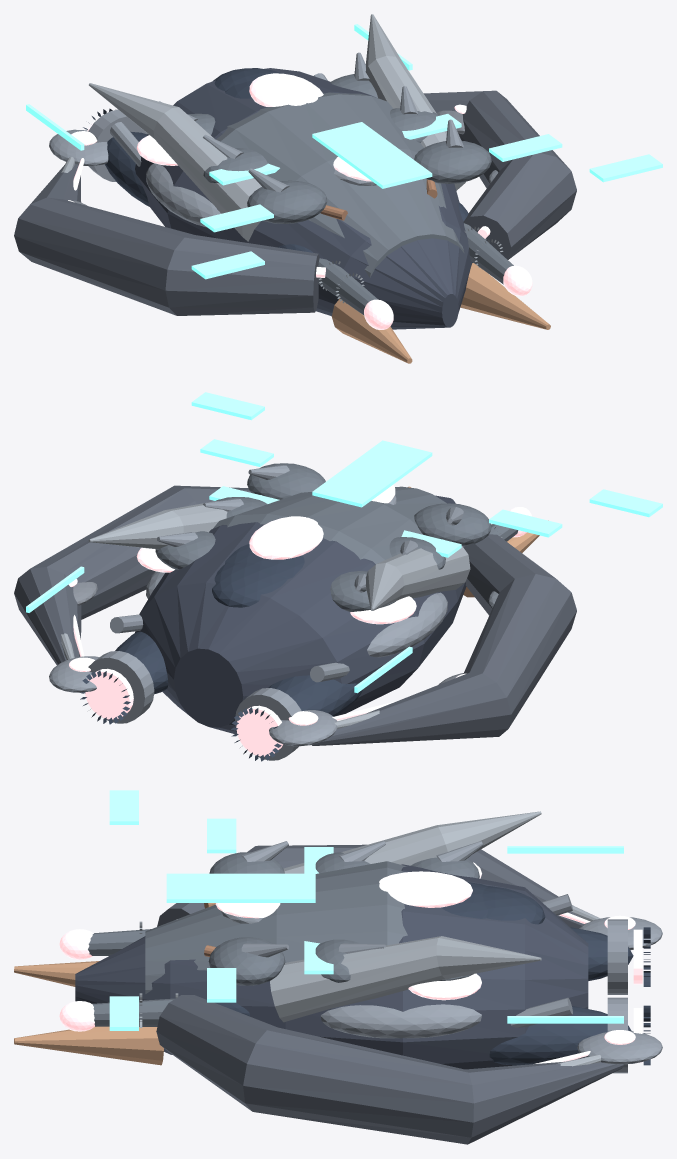
Rendered from npc_bossNexusWarden.glb.
3 views of the same model, one above another, from view 1: azimuth 30°, elevation 25°; view 2: azimuth 150°, elevation 25°; view 3: azimuth 270°, elevation 25° (orthographic). The views are drawn at different scales.
Parts seen in each view (by area): view 1: armored_scythe_-1, keel_pressure_hull, upper_armor_scar, armored_scythe_1, V59 trim baked, prime_arch_back_-1, prime_arch_back_1, prime_secondary_horn_1, dreadnox_dorsal_plating_1_0, dreadnox_dorsal_plating_-1_0, heavy_shield_pad_-1, prime_emitter (+14 smaller); view 2: keel_pressure_hull, armored_scythe_-1, V59 trim baked, armored_scythe_1, upper_armor_scar, prime_arch_back_-1, prime_arch_back_1, prime_emitter, destroyer_turret, heavy_shield_pad_-1, dreadnox_dorsal_plating_-1_0, engine_armor_-1 (+14 smaller); view 3: armored_scythe_1, keel_pressure_hull, upper_armor_scar, V59 trim baked, prime_arch_back_1, heavy_shield_pad_1, prime_arch_back_-1, prime_secondary_horn_1, engine_armor_1, armored_scythe_-1, prime_emitter, dreadnox_dorsal_plating_1_0 (+20 smaller).
Boxes of the visible parts, x1,y1,x2,y2 form: armored_scythe_-1: [14, 163, 319, 315]; keel_pressure_hull: [135, 68, 472, 329]; upper_armor_scar: [216, 92, 464, 277]; armored_scythe_1: [423, 90, 576, 262]; V59 trim baked: [26, 24, 662, 279]; prime_arch_back_-1: [89, 83, 261, 241]; prime_arch_back_1: [365, 14, 465, 190]; prime_secondary_horn_1: [460, 263, 550, 329]; dreadnox_dorsal_plating_1_0: [414, 141, 491, 183]; dreadnox_dorsal_plating_-1_0: [247, 180, 327, 223]; heavy_shield_pad_-1: [146, 163, 221, 227]; prime_emitter: [249, 73, 323, 106]; keel_pressure_hull: [135, 495, 466, 733]; armored_scythe_-1: [312, 534, 576, 745]; V59 trim baked: [26, 392, 662, 693]; armored_scythe_1: [14, 485, 251, 664]; upper_armor_scar: [213, 486, 446, 598]; prime_arch_back_-1: [365, 539, 470, 610]; prime_arch_back_1: [88, 495, 261, 549]; prime_emitter: [249, 516, 323, 559]; destroyer_turret: [212, 562, 287, 607]; heavy_shield_pad_-1: [367, 592, 447, 657]; dreadnox_dorsal_plating_-1_0: [414, 503, 491, 546]; engine_armor_-1: [268, 675, 362, 716]; armored_scythe_1: [156, 995, 623, 1144]; keel_pressure_hull: [75, 864, 588, 1069]; upper_armor_scar: [145, 861, 407, 993]; V59 trim baked: [109, 790, 623, 1030]; prime_arch_back_1: [270, 936, 541, 1022]; heavy_shield_pad_1: [320, 1004, 481, 1038]; prime_arch_back_-1: [283, 811, 541, 873]; prime_secondary_horn_1: [14, 1026, 163, 1065]; engine_armor_1: [489, 1006, 631, 1065]; armored_scythe_-1: [157, 844, 584, 928]; prime_emitter: [379, 871, 472, 907]; dreadnox_dorsal_plating_1_0: [208, 937, 285, 985].
Bounding box in the file's own units: 4.85 × 1.64 × 5.17.
